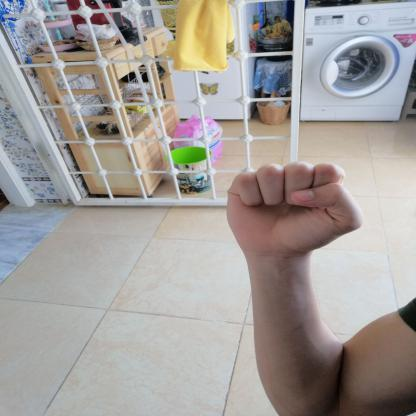SAD: (209, 141, 373, 267)
